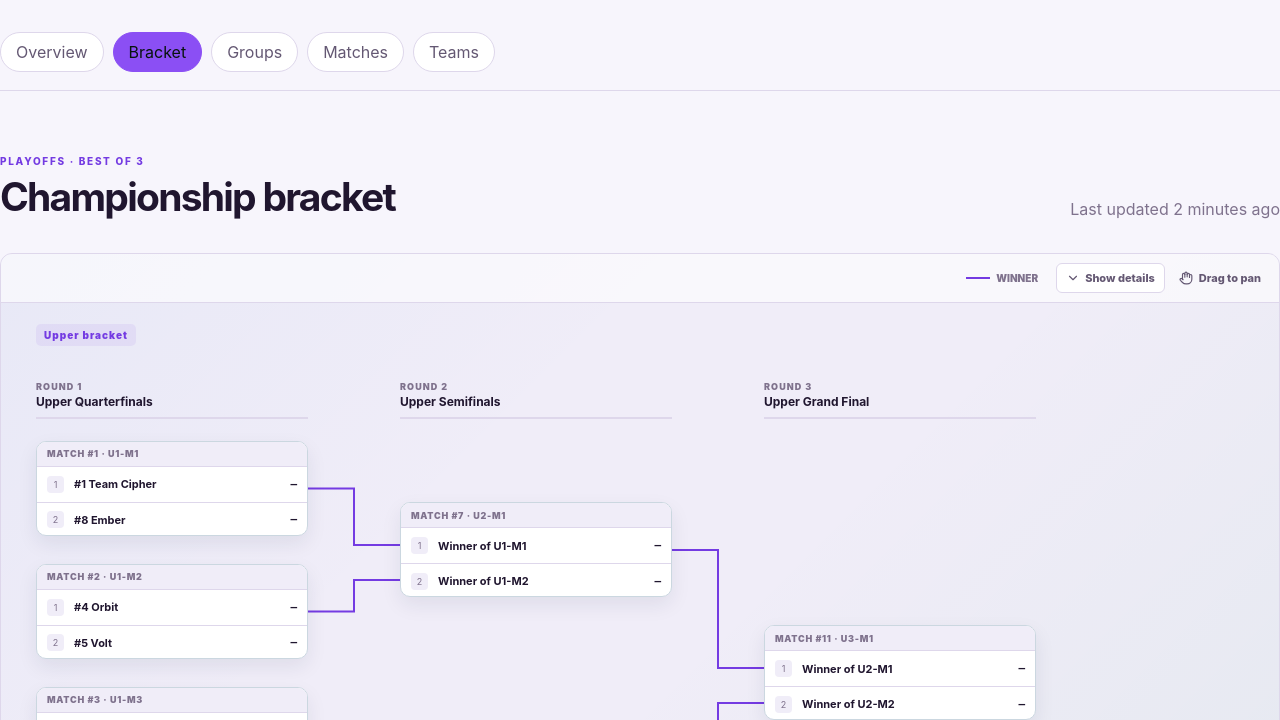
Test: TournamentTabs › switches between bracket, groups, and matches panels
Expected: the heading "Championship bracket" is shown, x1=0 y1=175 x2=395 y2=219
Click the tab "Groups". click: x=255, y=52
box: x1=211 y1=32 x2=298 y2=72
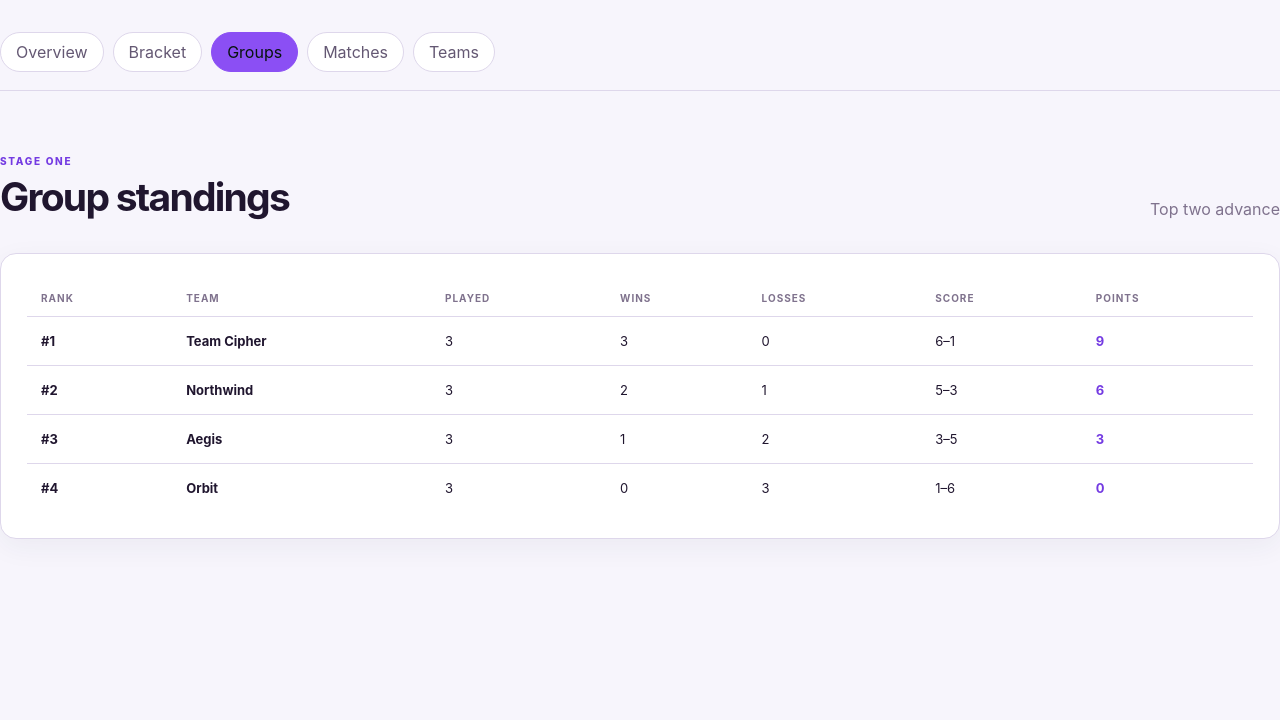
Expected: the text "Team Cipher" is shown, x1=186 y1=333 x2=267 y2=349
Now the heading "Group standings" is shown, box x1=0 y1=175 x2=289 y2=219
Click the tab "Matches". click: x=356, y=52
box: x1=307 y1=32 x2=404 y2=72
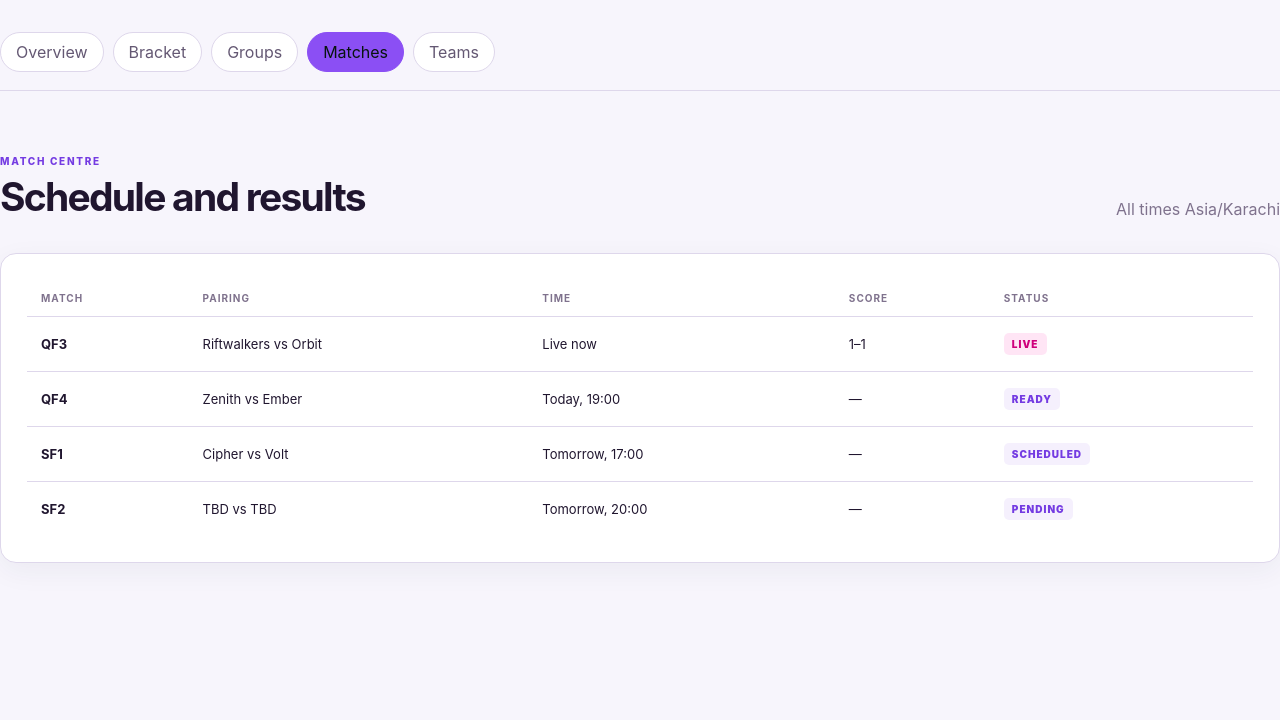
Now the heading "Schedule and results" is shown, box x1=0 y1=175 x2=365 y2=219
Now the text "Riftwalkers vs Orbit" is shown, box x1=188 y1=316 x2=528 y2=371
